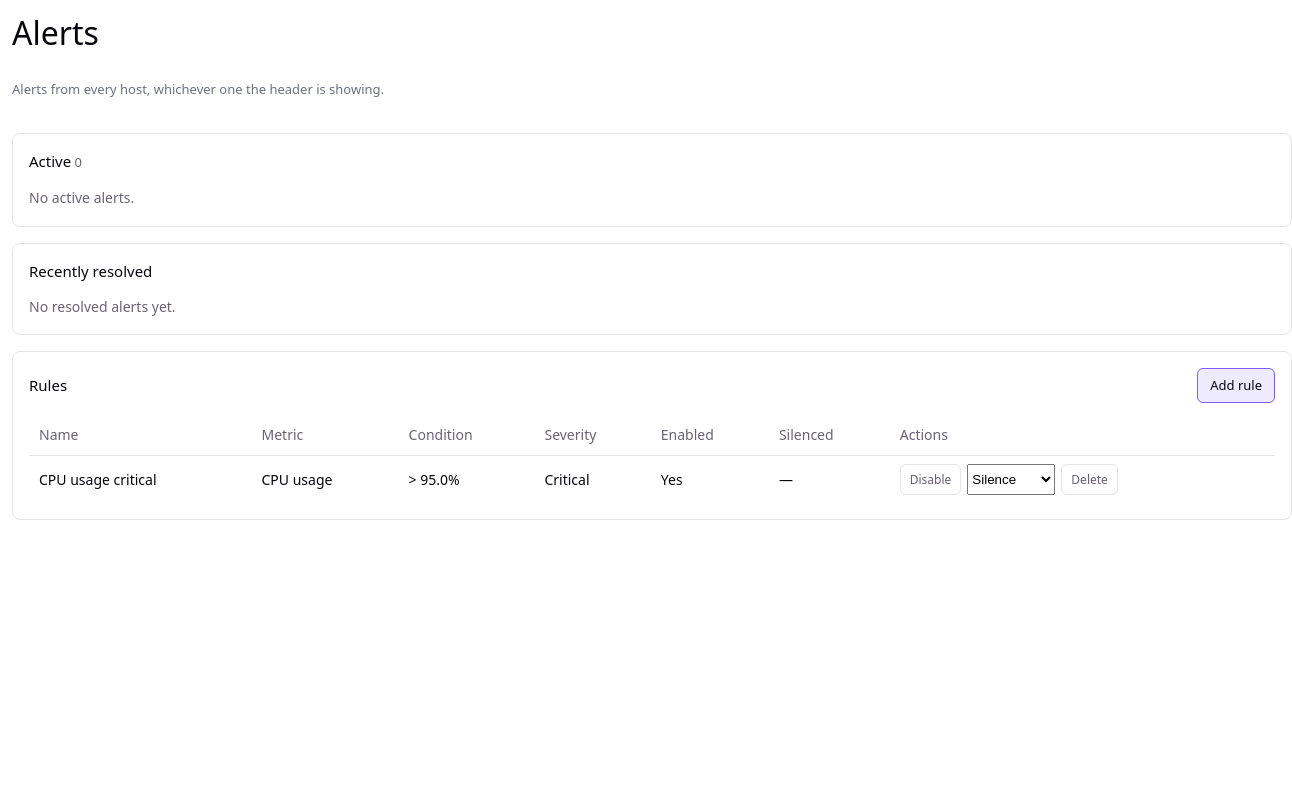
it: AlertsPage rule controls › keeps the form open when creation fails
Click the button "Add rule" at (1236, 386), box [1197,368,1275,403]
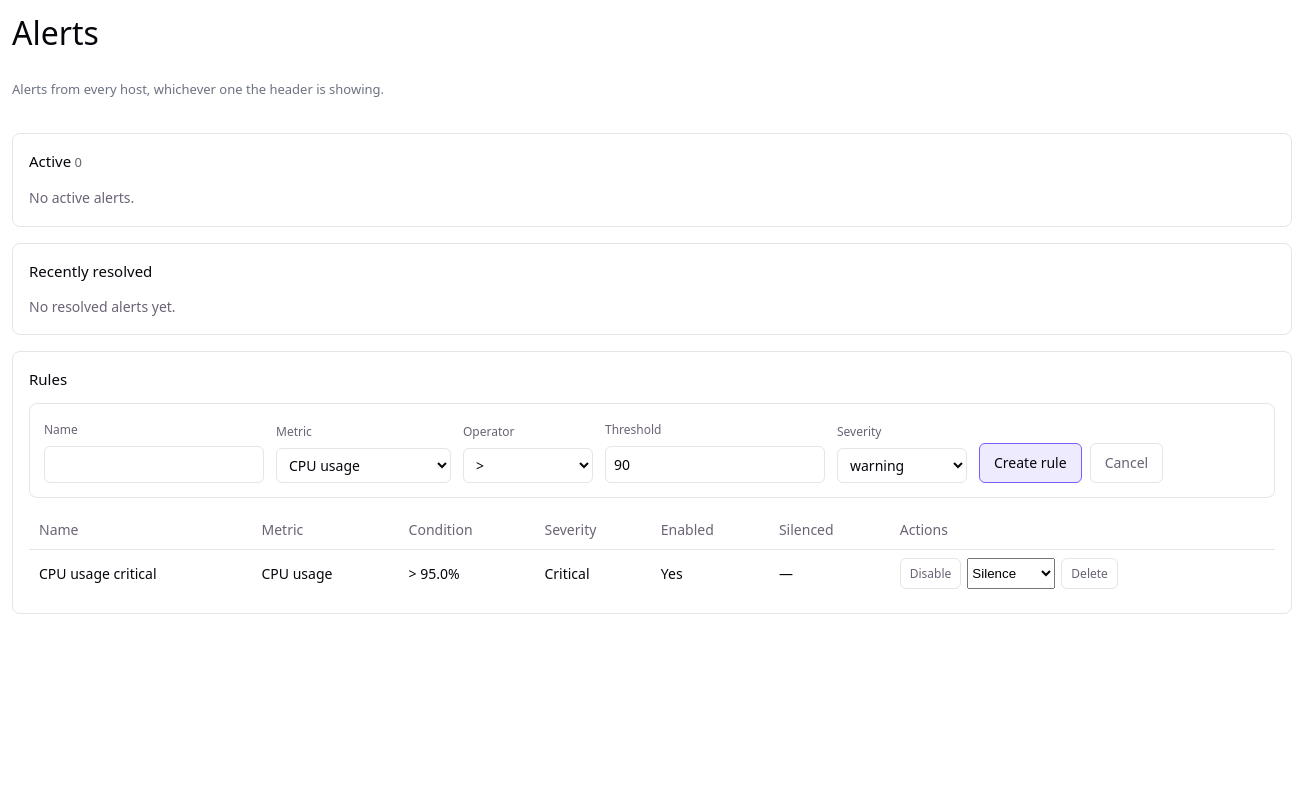
Type "Bad rule" into the field labelled "Name" at (154, 464), box [44,446,264,483]
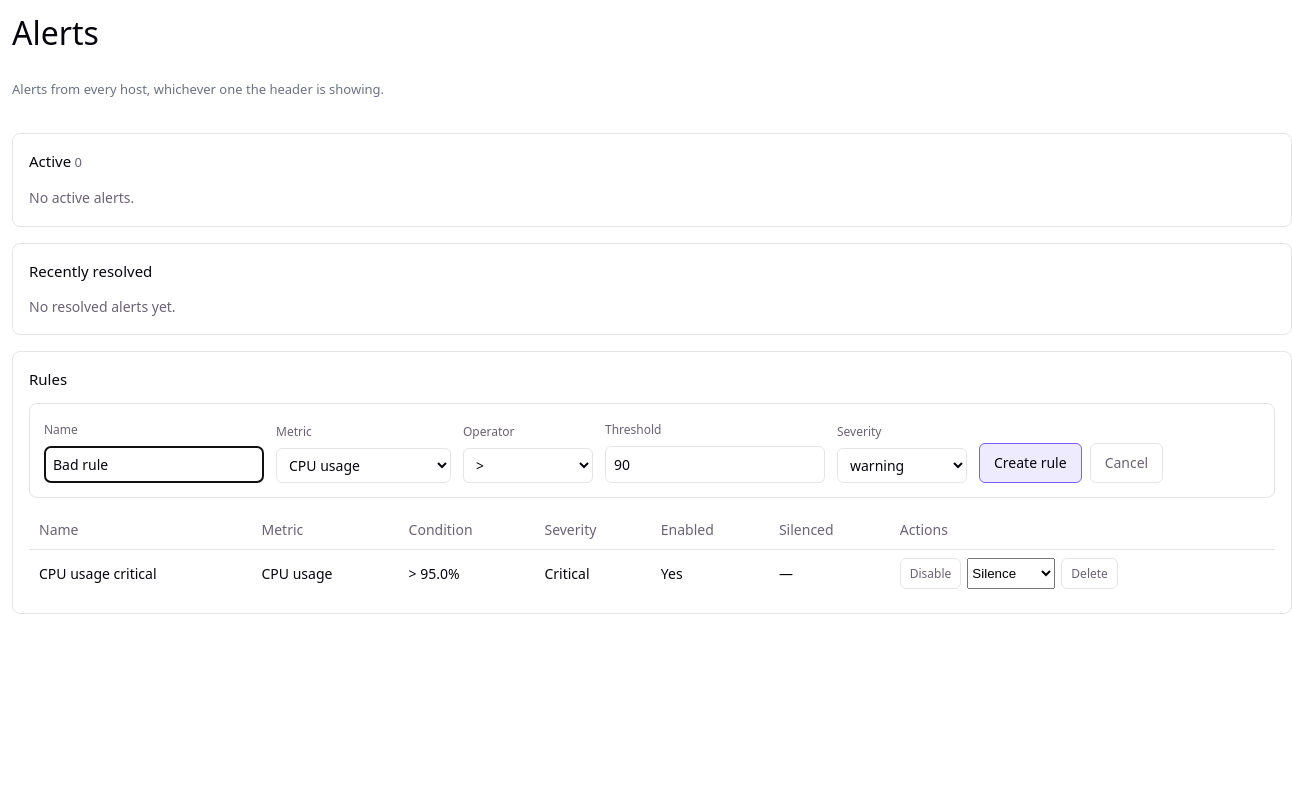
Click the button "Create rule" at (1030, 463), box [979,444,1082,483]
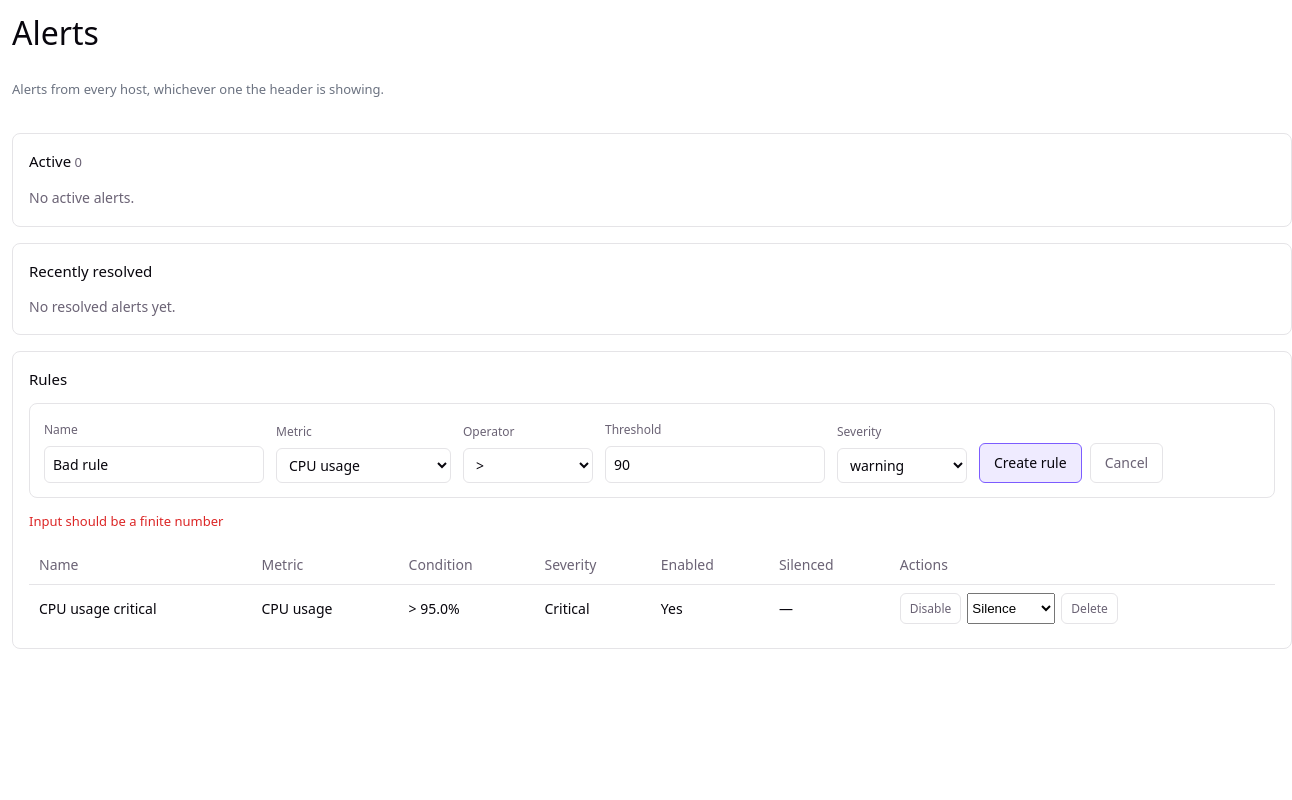
Check: the message reads "Input should be a finite number", box [29,512,223,530]
